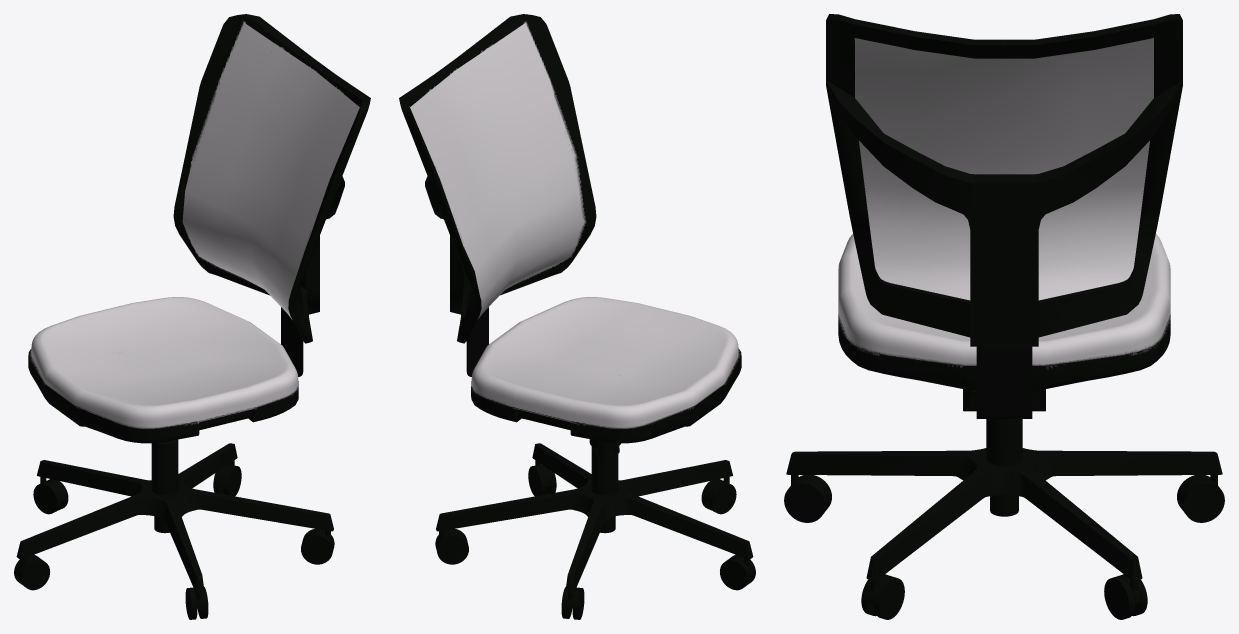
File: SediaPrincipale.fbx
3 views of the same model, side by side, from view 1: azimuth 30°, elevation 25°; view 2: azimuth 150°, elevation 25°; view 3: azimuth 270°, elevation 25° (orthographic). The views are drawn at different scales.
Parts seen in each view (by area): view 1: mesh_id22, mesh_id18, mesh_id9, mesh_id23, mesh_id17, mesh_id15, mesh_id14, mesh_id12, mesh_id10, mesh_id21, mesh_id13, mesh_id11; view 2: mesh_id22, mesh_id18, mesh_id9, mesh_id23, mesh_id17, mesh_id15, mesh_id11, mesh_id13, mesh_id10, mesh_id21, mesh_id12, mesh_id14; view 3: mesh_id22, mesh_id23, mesh_id9, mesh_id18, mesh_id17, mesh_id21, mesh_id15, mesh_id11, mesh_id14, mesh_id12, mesh_id13.
Part boxes in pixels (x1,y1,x2,y2): mesh_id22: (182,23,359,319); mesh_id18: (31,297,298,428); mesh_id9: (16,443,333,592); mesh_id23: (173,14,370,343); mesh_id17: (28,349,298,443); mesh_id15: (151,439,178,533); mesh_id14: (33,477,68,514); mesh_id12: (301,528,334,564); mesh_id10: (14,554,49,590); mesh_id21: (281,307,303,376); mesh_id13: (213,460,241,496); mesh_id11: (185,587,208,619); mesh_id22: (410,23,584,319); mesh_id18: (471,297,738,428); mesh_id9: (436,443,753,592); mesh_id23: (399,14,596,343); mesh_id17: (471,349,741,443); mesh_id15: (591,446,618,533); mesh_id11: (701,477,736,514); mesh_id13: (435,528,468,564); mesh_id10: (720,554,755,590); mesh_id21: (466,307,488,376); mesh_id12: (528,460,556,496); mesh_id14: (561,587,584,619); mesh_id22: (855,38,1153,300); mesh_id23: (826,14,1182,346); mesh_id9: (786,448,1222,580); mesh_id18: (838,234,1170,365); mesh_id17: (838,315,1170,411); mesh_id21: (976,346,1032,418); mesh_id15: (986,419,1022,516); mesh_id11: (784,475,831,522); mesh_id14: (1177,475,1224,522); mesh_id12: (861,574,904,619); mesh_id13: (1104,574,1147,619).
Size of the model in its own units: 713 by 1024 by 661.
1 material, 1 textured.
